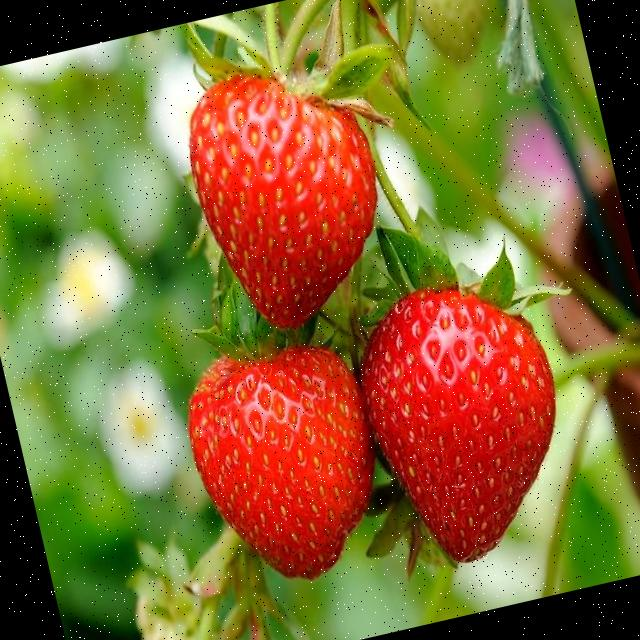strawberry: (361, 288, 554, 562), (189, 74, 376, 327), (188, 345, 375, 577)
